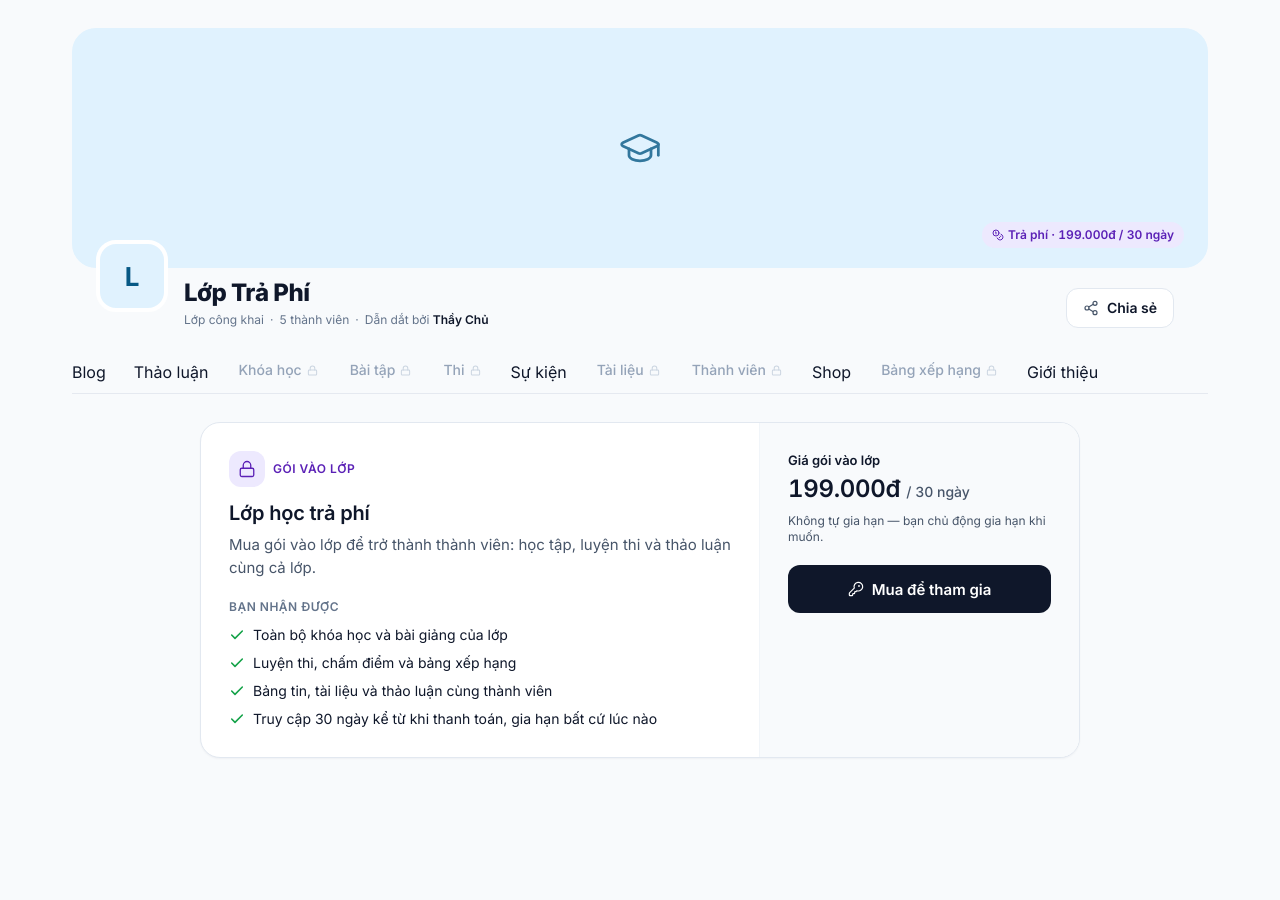
Test case: ClassroomLayout - non-member of a PUBLIC PAID class › a definitive rejection of the order is shown inline, in the paywall
Click the button "Mua để tham gia".
click(920, 589)  # box left=788, top=565, right=1051, bottom=613
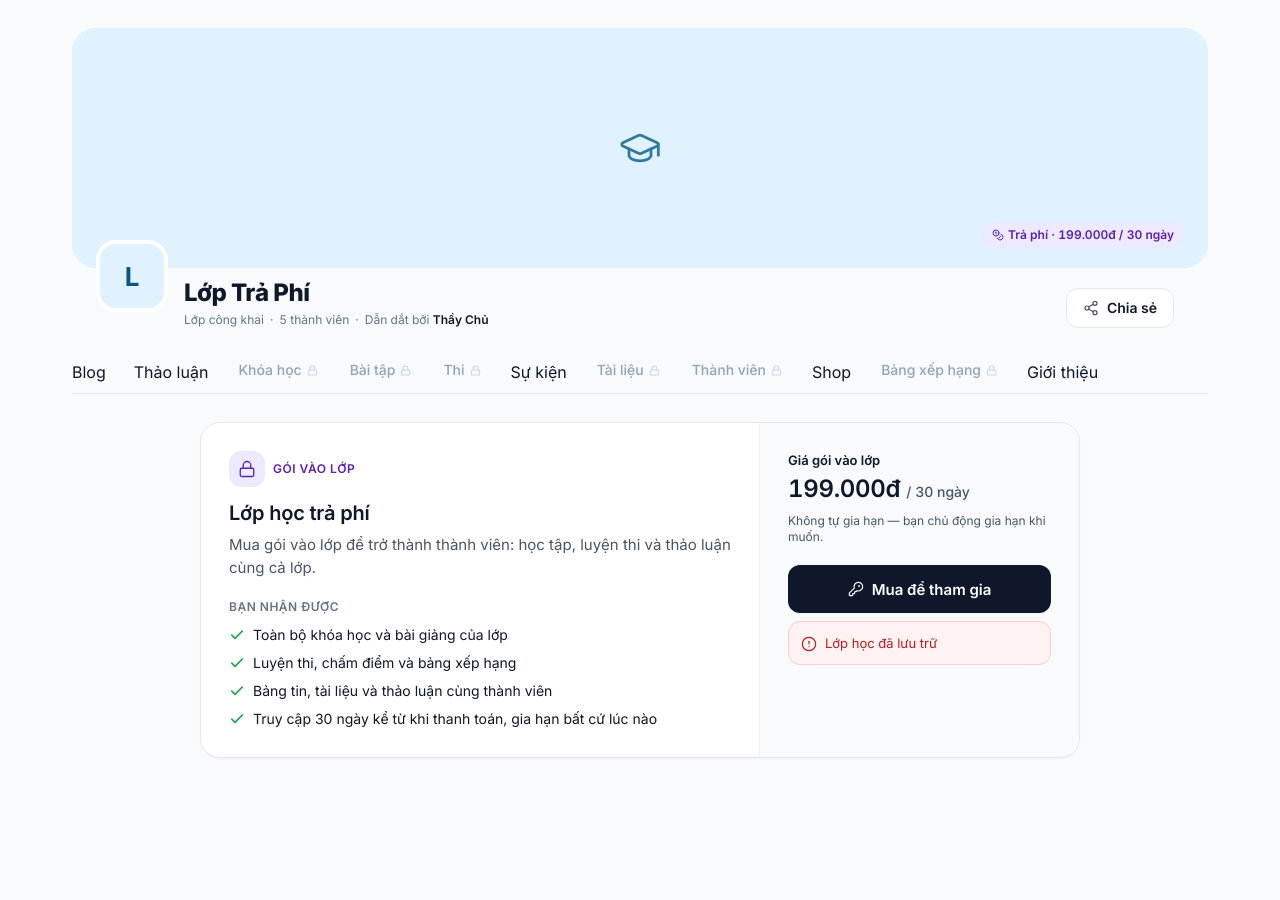
Now the text "Lớp học đã lưu trữ" is shown, box left=825, top=634, right=937, bottom=652
